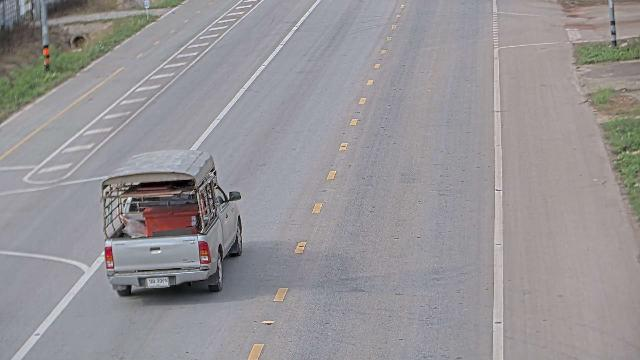pickup-truck: (99, 148, 243, 296)
